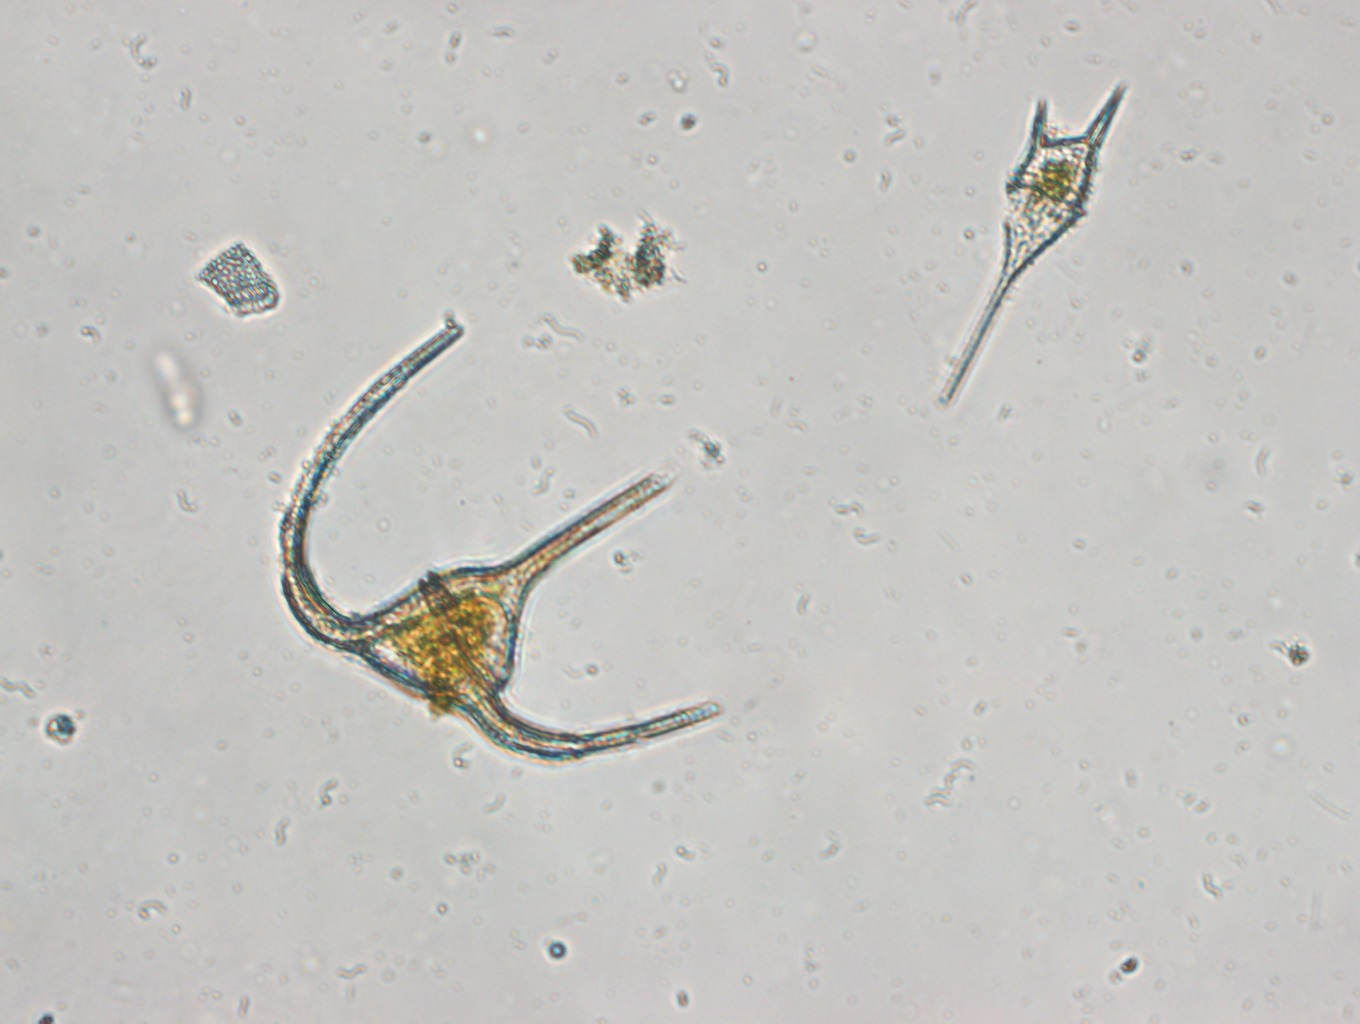ceratium furca: (928, 73, 1132, 411)
ceratium trichoceros: (278, 301, 732, 767)
